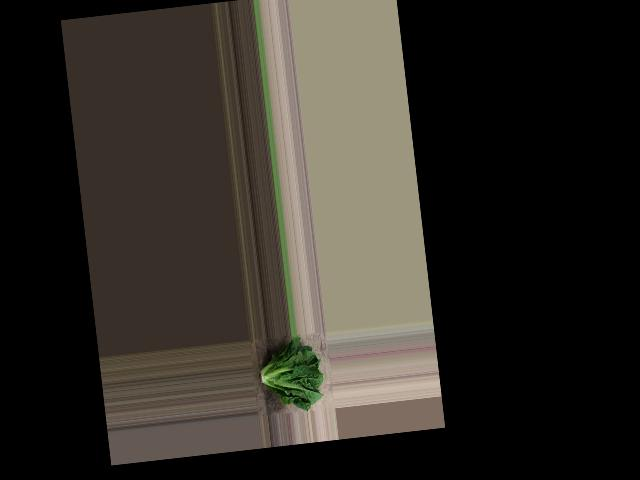lettuce: (251, 334, 328, 413)
